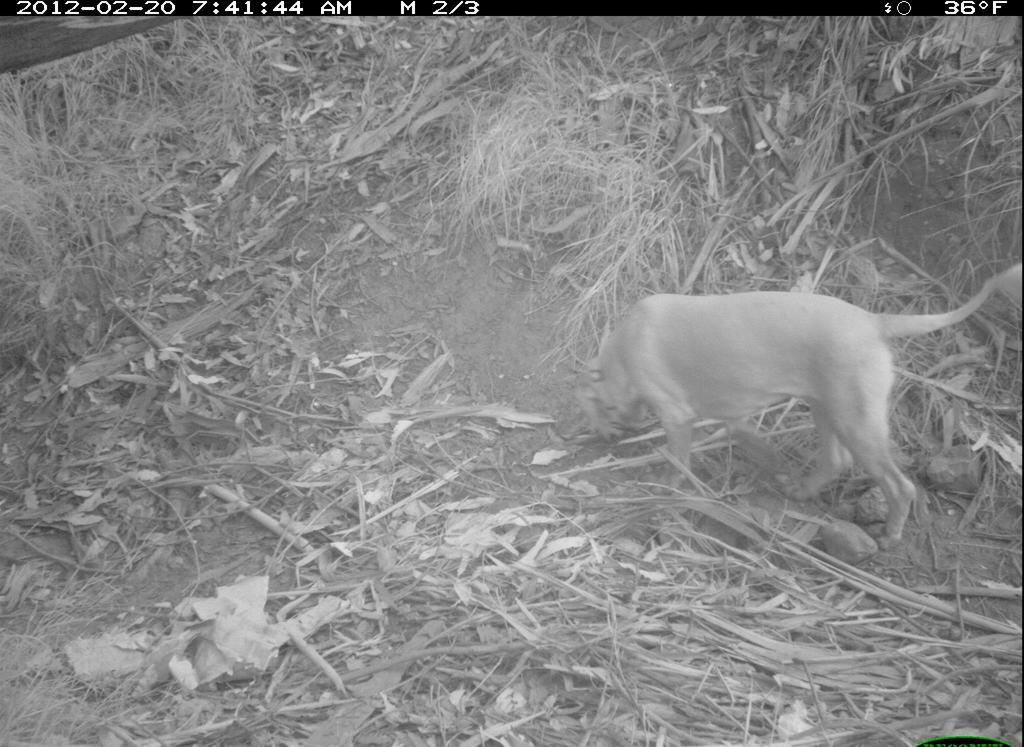dog: (568, 265, 1014, 555)
